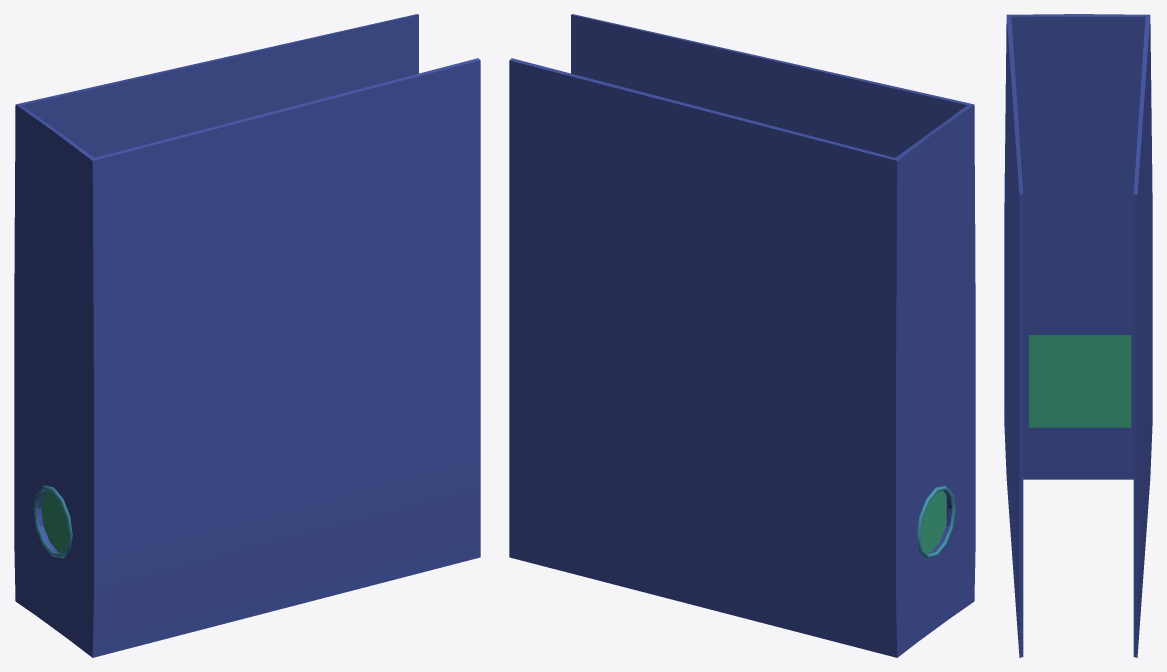
File: folder.fbx
3 views of the same model, side by side, from view 1: azimuth 30°, elevation 25°; view 2: azimuth 150°, elevation 25°; view 3: azimuth 270°, elevation 25° (orthographic). The views are drawn at different scales.
Parts seen in each view (by area): view 1: folder; view 2: folder; view 3: folder.
Part boxes in pixels (left/top/right/bottom): folder: left=14, top=14, right=480, bottom=657; folder: left=509, top=14, right=975, bottom=657; folder: left=1004, top=14, right=1152, bottom=657.
Size of the model in its own units: 0.2079 by 0.2497 by 0.0721.
